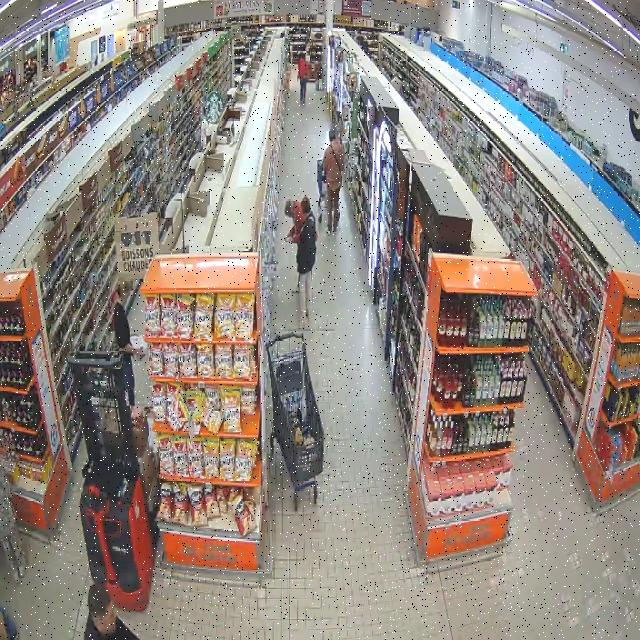article: (130, 334, 147, 352)
bags: (330, 145, 341, 187)
hands: (135, 348, 143, 360), (285, 235, 291, 242)
person: (113, 281, 142, 405), (84, 585, 139, 639), (0, 464, 25, 581), (297, 197, 317, 326), (323, 128, 345, 235), (285, 199, 306, 244), (298, 53, 309, 104)
